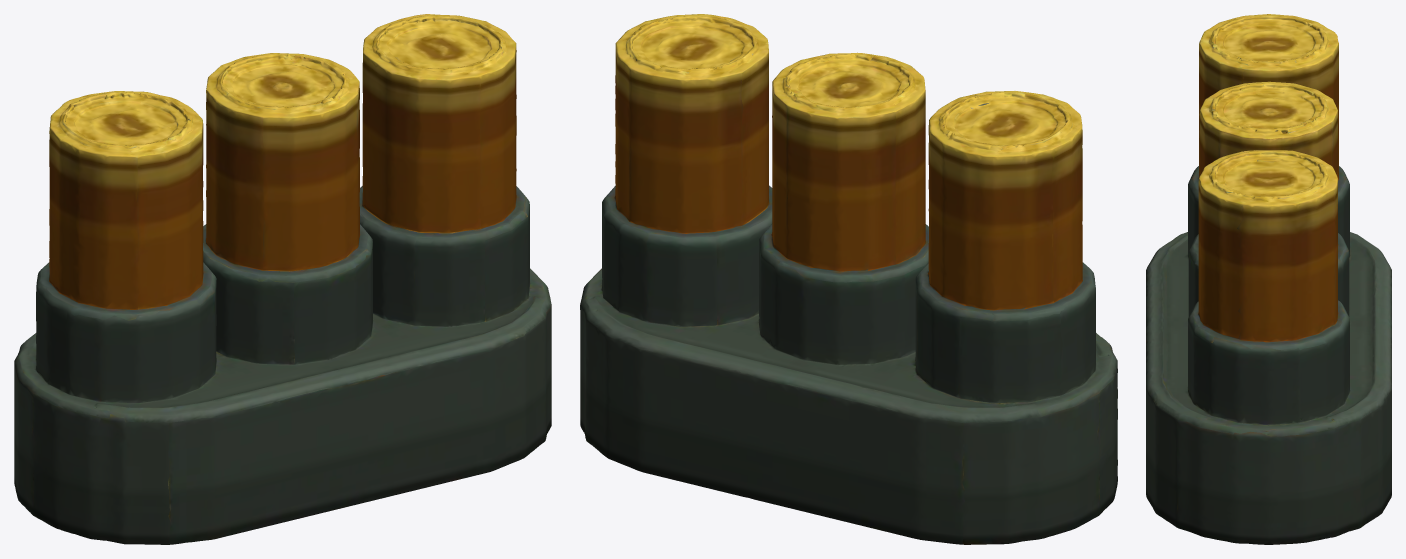
Rendered from SHELA0_2026-08-09T164327.179.glb.
3 views of the same model, side by side, from view 1: azimuth 30°, elevation 25°; view 2: azimuth 150°, elevation 25°; view 3: azimuth 270°, elevation 25° (orthographic). The views are drawn at different scales.
Visible parts, largest first — view 1: world; view 2: world; view 3: world.
Part boxes in pixels (bbox=[...]): world: bbox=[14, 14, 551, 544]; world: bbox=[580, 14, 1117, 544]; world: bbox=[1146, 14, 1391, 544].
Size of the model in its own units: 1 by 0.7184 by 0.4827.
1 material, 1 textured.
